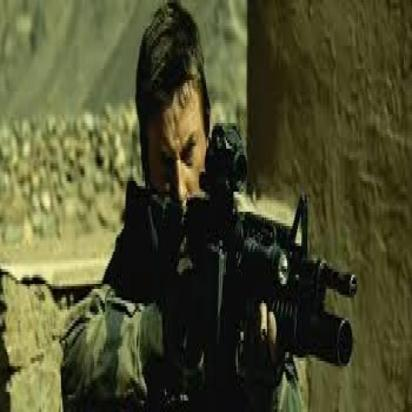Gun: (123, 131, 360, 412)
